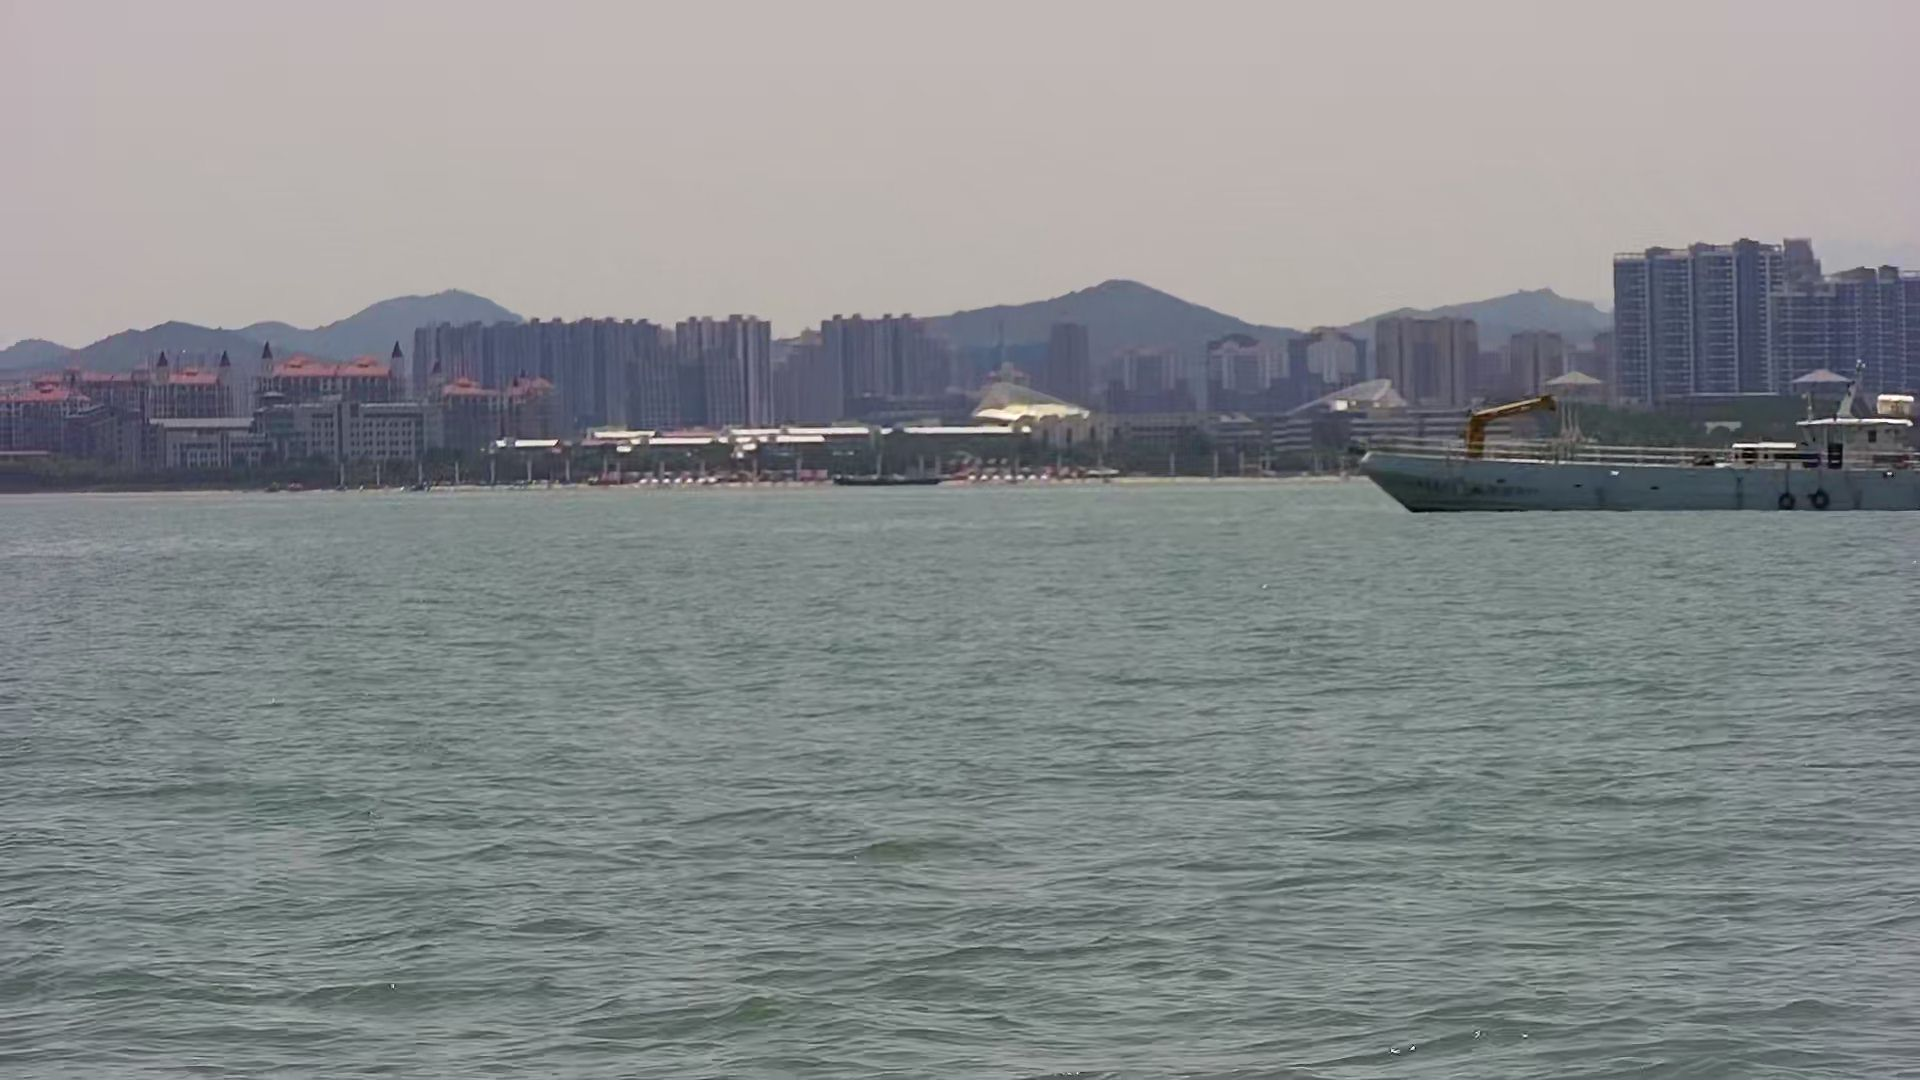ship: (1342, 382, 1920, 517)
